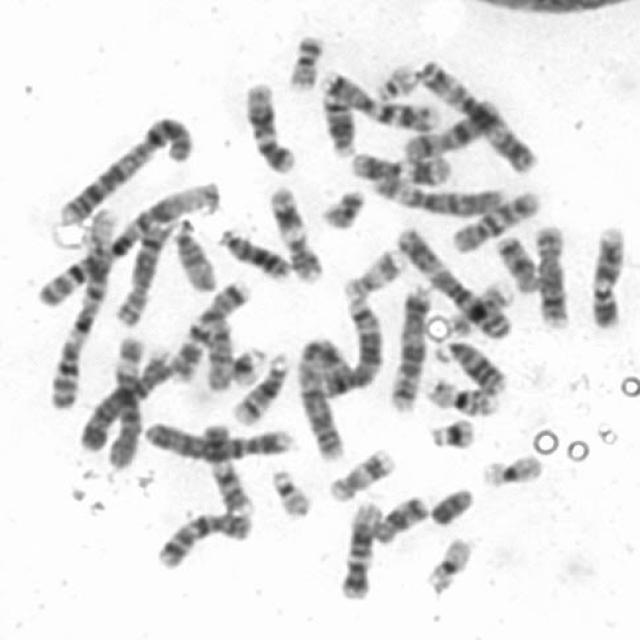A1: (38, 182, 220, 306), (50, 208, 124, 405)
A2: (59, 116, 193, 227), (296, 337, 355, 460)
A3: (420, 60, 537, 175), (395, 227, 512, 340)
B4: (81, 344, 186, 450), (142, 421, 293, 459)
B5: (318, 295, 384, 399), (388, 282, 434, 414)
C10: (157, 512, 253, 568), (452, 190, 540, 251)
C11: (270, 188, 322, 284), (351, 152, 453, 185)
C12: (244, 82, 296, 174), (340, 502, 382, 600)
C6: (372, 171, 506, 217), (105, 335, 144, 469)
C7: (170, 282, 255, 384), (317, 69, 442, 134)
C8: (114, 220, 172, 326), (534, 224, 569, 328)
C9: (200, 424, 254, 518), (590, 227, 627, 328)
D13: (218, 228, 293, 282), (433, 342, 508, 396)
D14: (231, 352, 288, 426), (321, 93, 356, 159)
D15: (172, 218, 218, 292), (204, 318, 235, 392)
E16: (445, 279, 516, 339), (422, 376, 502, 418)
E17: (327, 449, 397, 502), (345, 249, 405, 298)
E18: (370, 495, 430, 544), (495, 236, 545, 294)
F19: (427, 538, 472, 595), (480, 452, 544, 486)
F20: (289, 36, 325, 90), (321, 188, 367, 230)
G21: (231, 347, 268, 388), (432, 420, 474, 448)
G22: (270, 469, 312, 519), (375, 64, 417, 103)
X: (404, 98, 501, 162)
Y: (428, 487, 475, 527)
